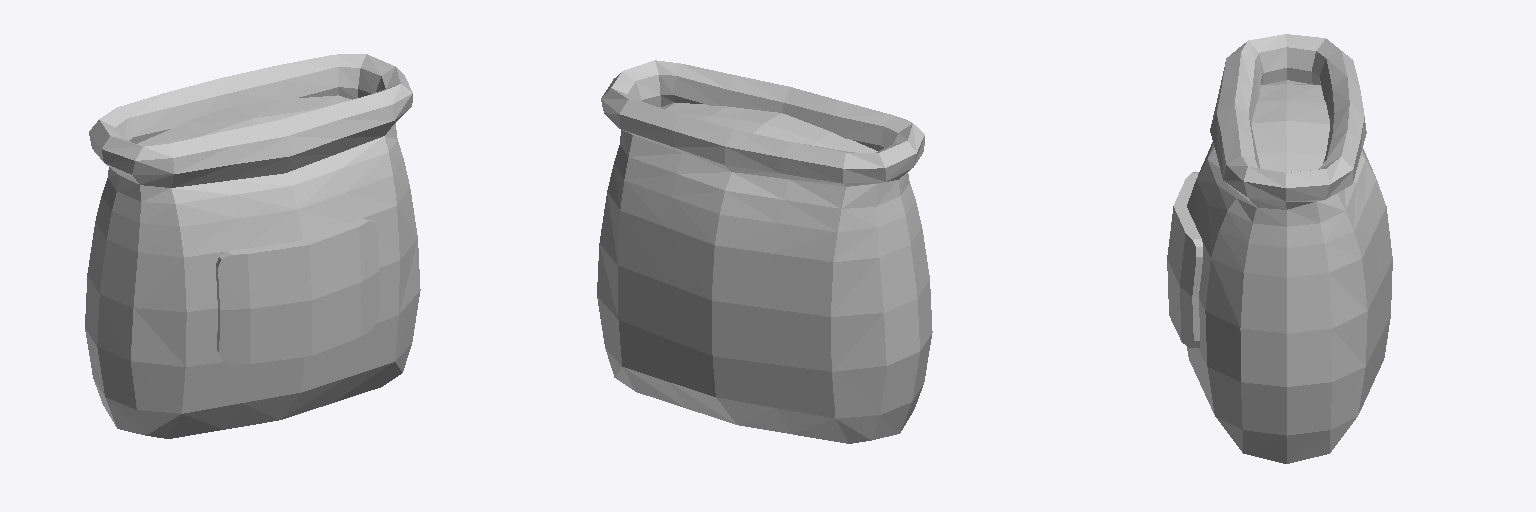
File: flour_sack_open.obj
3 renders of one model, left to right at view 1: azimuth 30°, elevation 25°; view 2: azimuth 150°, elevation 25°; view 3: azimuth 270°, elevation 25°, orthographic.
Parts seen in each view (by area): view 1: flour_sack_open; view 2: flour_sack_open; view 3: flour_sack_open.
Part boxes in pixels (x1,y1,x2,y2): flour_sack_open: (85, 54, 420, 438); flour_sack_open: (597, 60, 932, 443); flour_sack_open: (1167, 34, 1392, 463).
Size of the model in its own units: 0.5338 by 0.5003 by 0.3359.